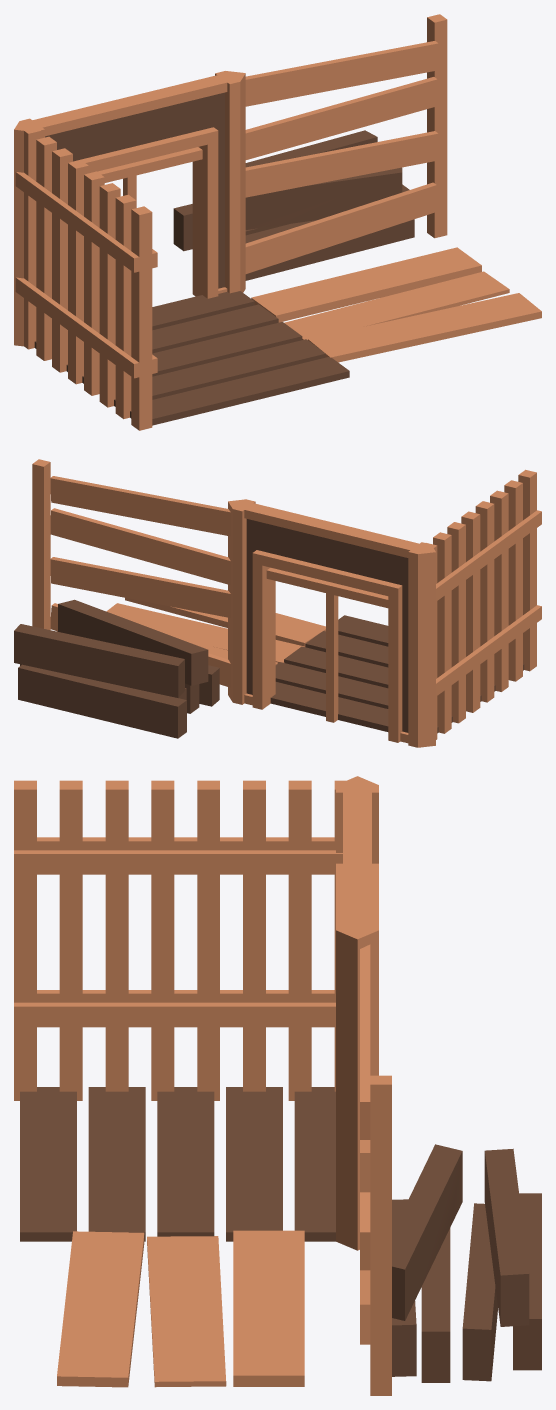
Rendered from Cabane_construct.fbx.
3 renders of one model, top to bottom at view 1: azimuth 30°, elevation 25°; view 2: azimuth 150°, elevation 25°; view 3: azimuth 270°, elevation 25°, orthographic. The views are drawn at different scales.
Parts seen in each view (by area): view 1: door_gate_28, wall_paperDoorWidePillar_41, planks_wall_43, planks_floorHalf_42, planks_floor_24, debris_wood_39, structure_pole_44; view 2: wall_paperDoorWidePillar_41, door_gate_28, debris_wood_39, planks_wall_43, planks_floor_24, planks_floorHalf_42, structure_pole_44; view 3: door_gate_28, planks_floor_24, planks_floorHalf_42, debris_wood_39, wall_paperDoorWidePillar_41, structure_pole_44, planks_wall_43.
Part boxes in pixels (x1,y1,x2,y2): door_gate_28: (15,126,157,430); wall_paperDoorWidePillar_41: (14,71,245,346); planks_wall_43: (245,41,438,273); planks_floorHalf_42: (251,247,541,362); planks_floor_24: (34,291,349,425); debris_wood_39: (173,130,414,280); structure_pole_44: (427,14,447,238); wall_paperDoorWidePillar_41: (228,499,435,747); door_gate_28: (419,469,541,739); debris_wood_39: (14,599,219,738); planks_wall_43: (50,476,230,687); planks_floor_24: (270,615,524,733); planks_floorHalf_42: (106,598,325,664); structure_pole_44: (32,459,50,629); door_gate_28: (14,780,357,1100); planks_floor_24: (20,1087,335,1241); planks_floorHalf_42: (57,1230,304,1387); debris_wood_39: (392,1144,541,1382); wall_paperDoorWidePillar_41: (336,776,378,1250); structure_pole_44: (370,1075,391,1395); planks_wall_43: (360,944,370,1344).
Size of the model in its own units: 21.25 by 10 by 15.37.
